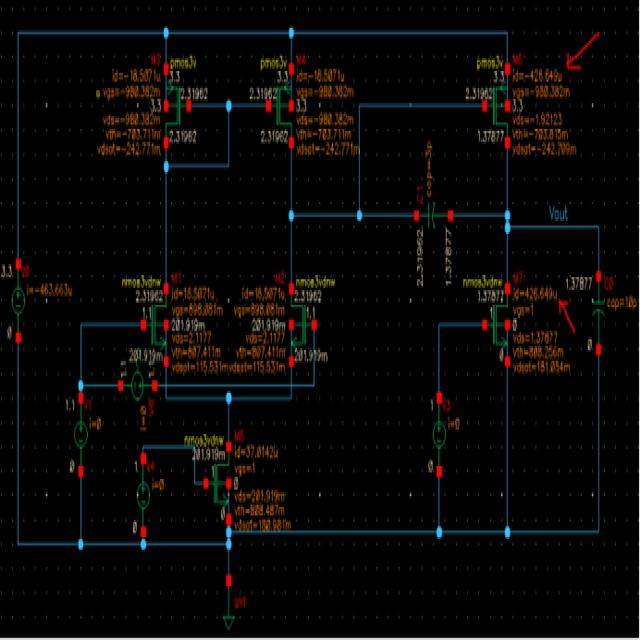cap: (411, 186, 458, 233), (590, 273, 606, 355)
nmos: (287, 274, 319, 369), (480, 279, 511, 374), (140, 281, 171, 366)
pmos: (474, 54, 512, 154), (259, 54, 296, 155), (162, 58, 192, 156)
vdc: (6, 254, 34, 352), (202, 443, 234, 525), (426, 392, 448, 479), (132, 452, 154, 534), (72, 392, 89, 474)
